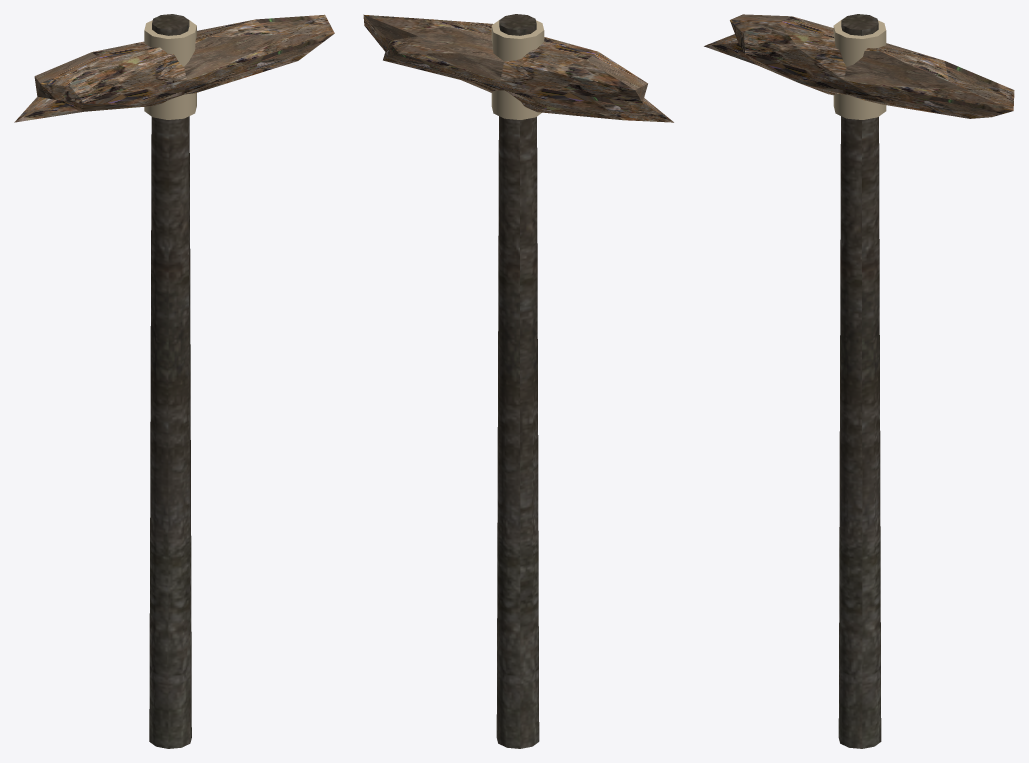
Rendered from stone_pickaxe.glb.
3 renders of one model, left to right at view 1: azimuth 30°, elevation 25°; view 2: azimuth 150°, elevation 25°; view 3: azimuth 330°, elevation 25°, orthographic.
Visible parts, largest first — view 1: handle, head, lash; view 2: handle, head, lash; view 3: handle, head, lash.
Boxes of the visible parts, left/top/right/bottom form: handle: left=149, top=14, right=191, bottom=748; head: left=14, top=14, right=334, bottom=122; lash: left=144, top=19, right=196, bottom=119; handle: left=496, top=14, right=539, bottom=748; head: left=363, top=14, right=673, bottom=122; lash: left=491, top=19, right=544, bottom=119; handle: left=838, top=14, right=881, bottom=748; head: left=704, top=14, right=1014, bottom=118; lash: left=833, top=19, right=886, bottom=119.
Size of the model in its own units: 0.2851 by 0.62 by 0.053.
Materials: 3 (2 with a texture image).
